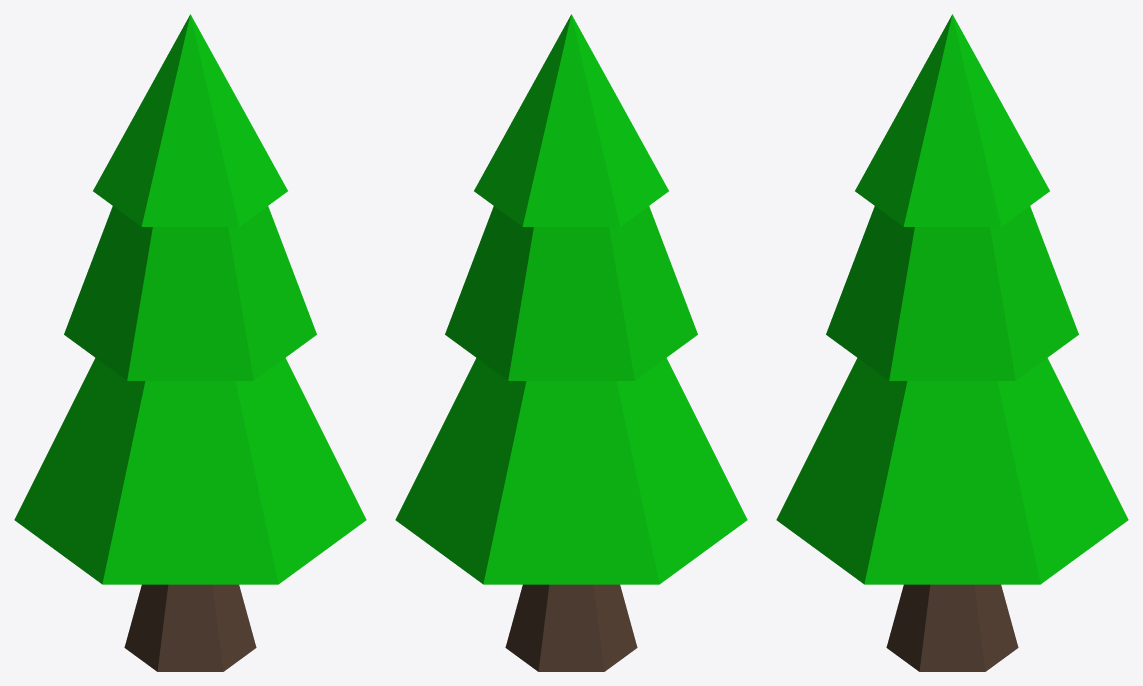
File: arvoreLowPoly.fbx
The picture shows the model from 3 angles, left to right: view 1: azimuth 30°, elevation 25°; view 2: azimuth 150°, elevation 25°; view 3: azimuth 270°, elevation 25°; orthographic projection.
Parts seen in each view (by area): view 1: Cone; view 2: Cone; view 3: Cone.
Part boxes in pixels (bbox=[...]): Cone: bbox=[14, 14, 366, 671]; Cone: bbox=[395, 14, 747, 671]; Cone: bbox=[776, 14, 1128, 671].
Size of the model in its own units: 414 by 947 by 478.
